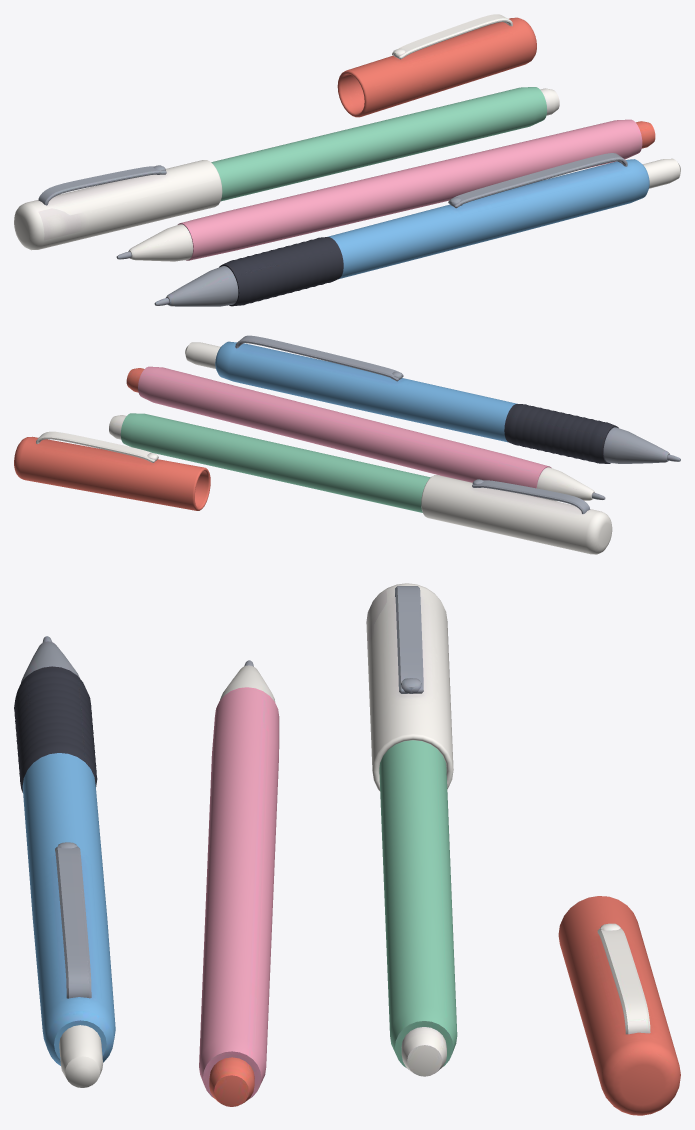
File: pen.glb
The picture shows the model from 3 angles, top to bottom: view 1: azimuth 30°, elevation 25°; view 2: azimuth 150°, elevation 25°; view 3: azimuth 270°, elevation 25°; orthographic projection. The views are drawn at different scales.
Parts seen in each view (by area): view 1: pen_body; view 2: pen_body; view 3: pen_body.
Part boxes in pixels (x1,y1,x2,y2): pen_body: (14,14,680,306); pen_body: (14,335,680,554); pen_body: (14,583,680,1115).
Size of the model in its own units: 0.1517 by 0.0141 by 0.0912.
4 materials, 4 textured.
